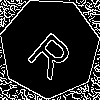R: (24, 23, 82, 82)
